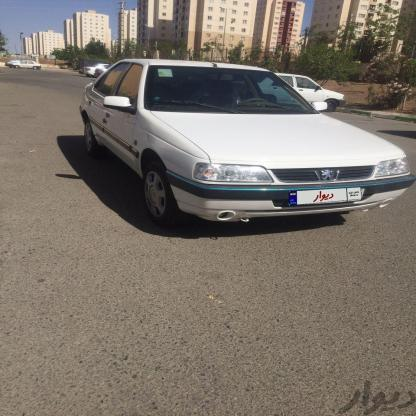Car: (76, 61, 406, 230), (280, 73, 365, 117)
